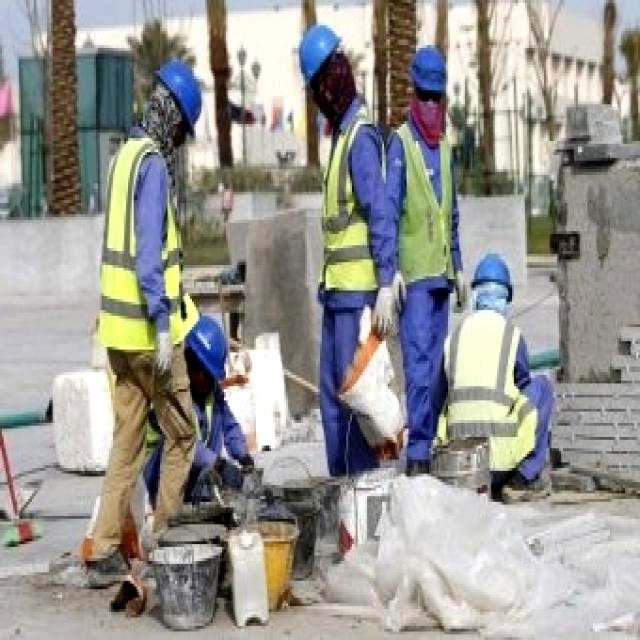Con_Chaleco: (94, 141, 184, 335), (316, 118, 387, 294), (442, 311, 523, 438)
